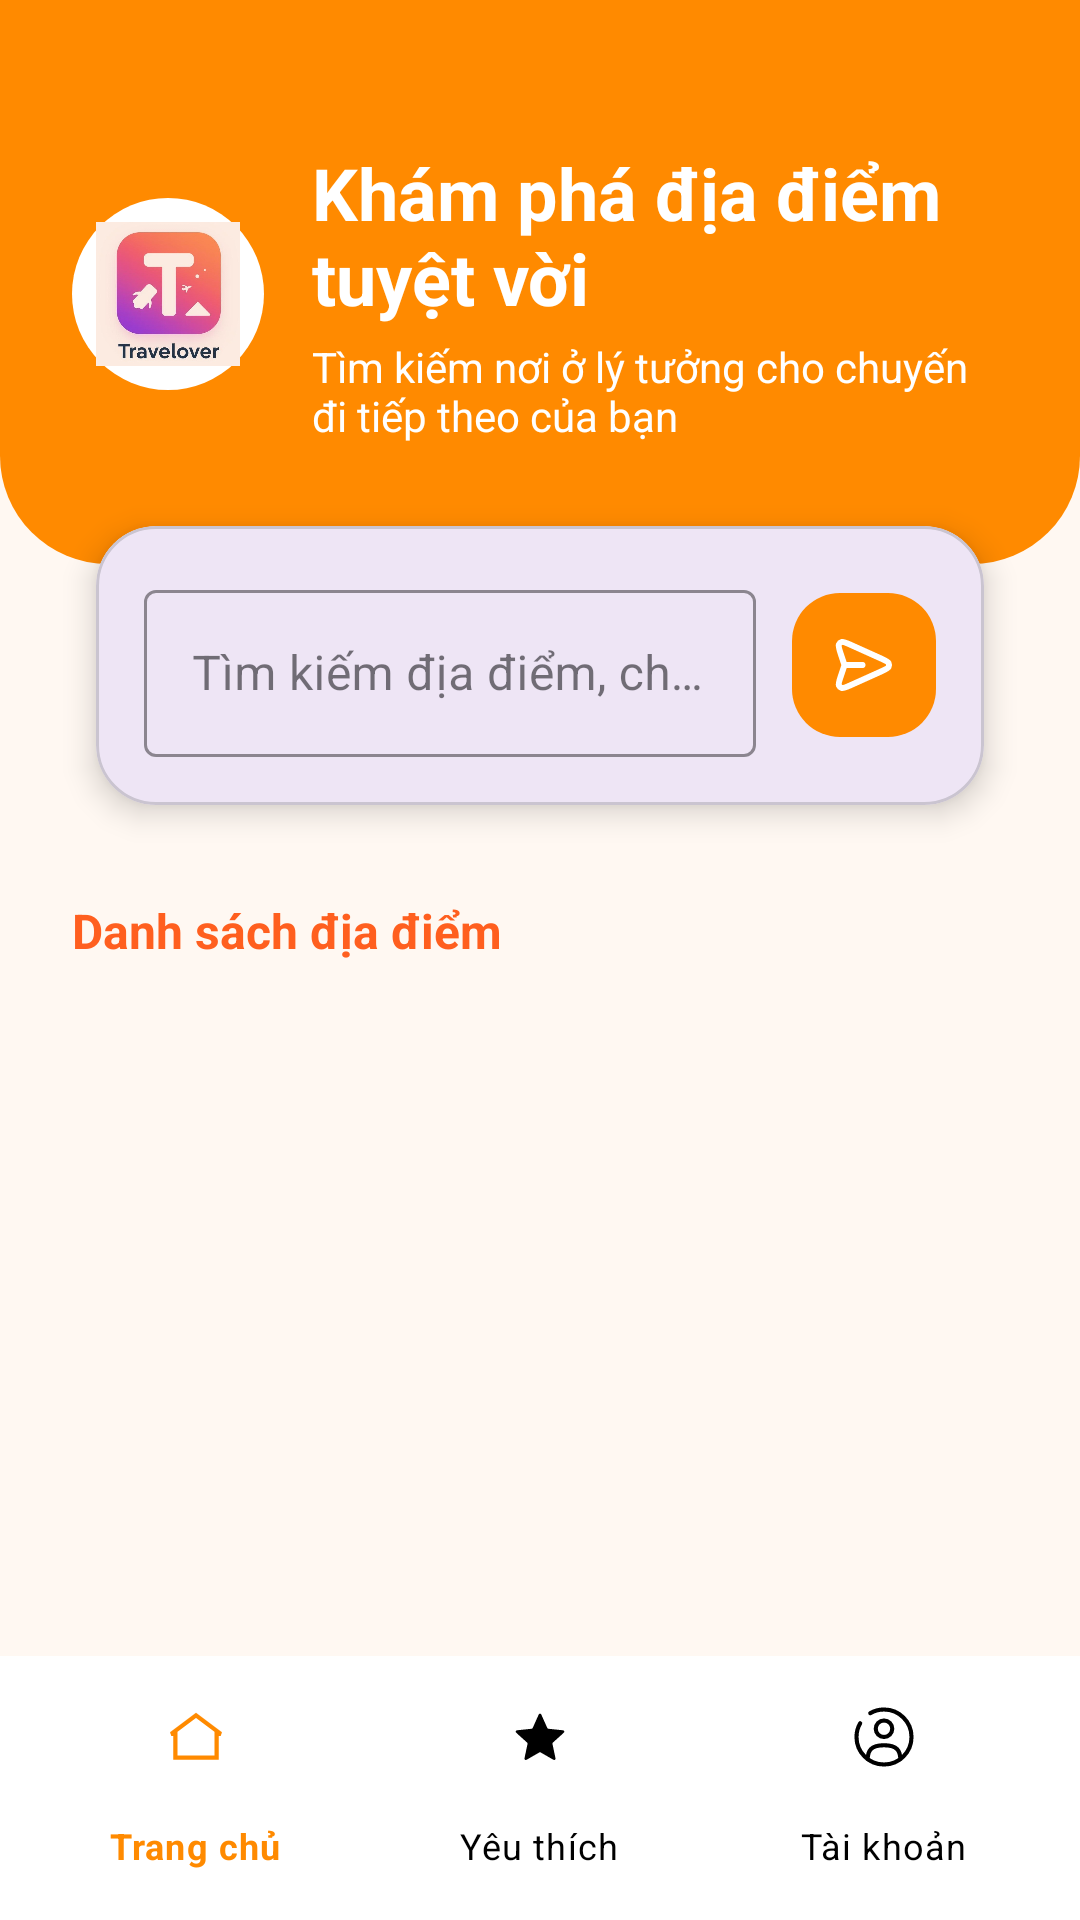

Screen size 1080 × 1920. Icon name, then its center in pixels as point (x, y):
Thực hiện tìm kiếm địa điểm: point (864, 665)
